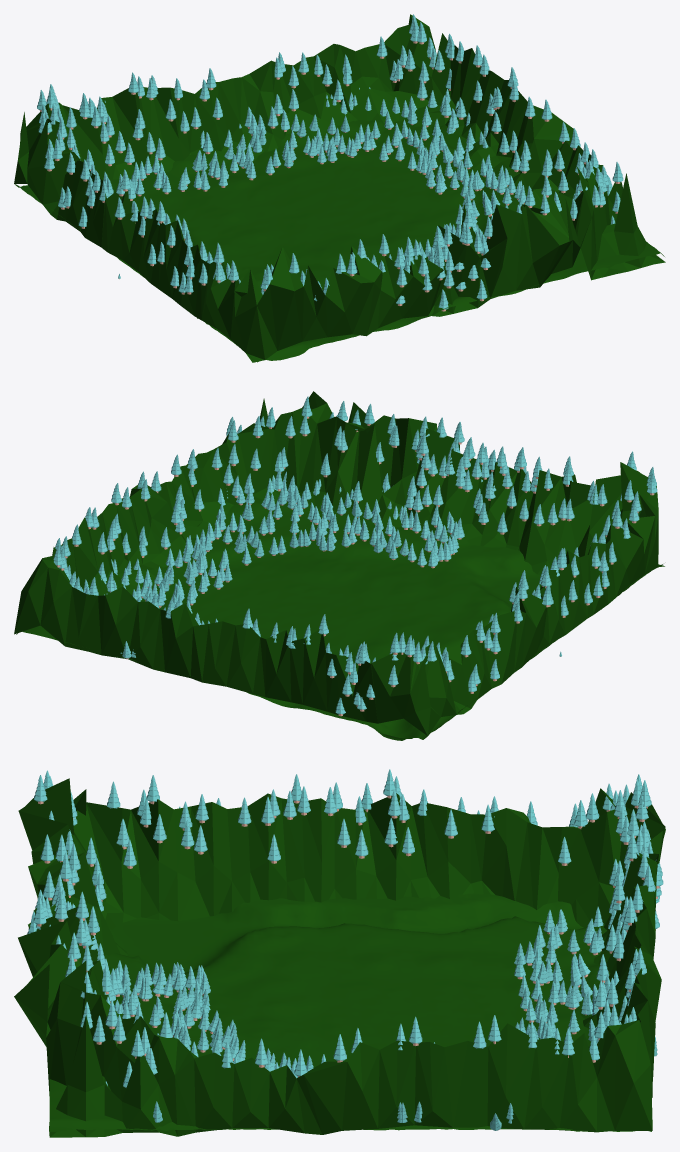
File: camp_landscape2.glb
3 views of the same model, one above another, from view 1: azimuth 30°, elevation 25°; view 2: azimuth 150°, elevation 25°; view 3: azimuth 270°, elevation 25° (orthographic). The views are drawn at different scales.
Visible parts, largest first — view 1: Mountains, Terrain; view 2: Mountains, Terrain; view 3: Mountains, Terrain.
Part boxes in pixels (<box>): Mountains: <box>14,14,665,362</box>; Terrain: <box>14,120,664,362</box>; Mountains: <box>14,391,664,735</box>; Terrain: <box>16,501,662,740</box>; Mountains: <box>14,778,665,1137</box>; Terrain: <box>49,893,651,1131</box>.
Bounding box in the file's own units: 425 × 127 × 433.
